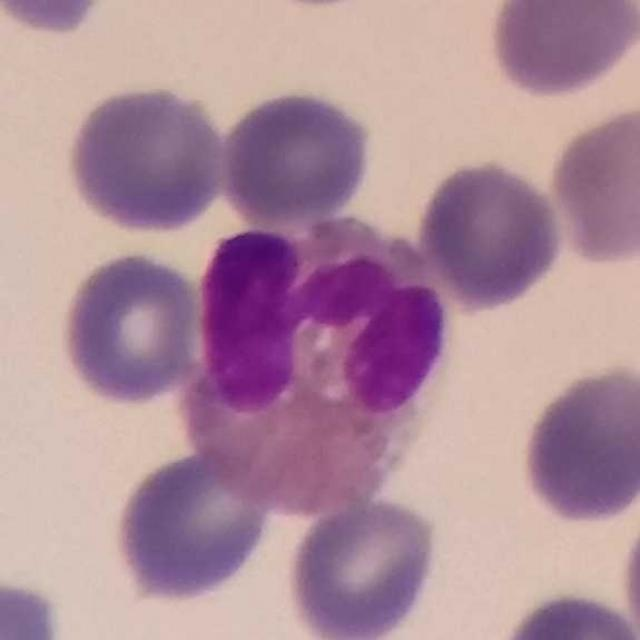Eosinophil: (183, 208, 455, 512)
RBC: (108, 443, 279, 605), (61, 81, 232, 237), (414, 153, 569, 314), (56, 247, 208, 409), (283, 495, 443, 640), (216, 85, 376, 226), (515, 360, 640, 528), (545, 99, 640, 269), (483, 0, 640, 101), (489, 585, 640, 638), (0, 0, 112, 39), (0, 574, 66, 639), (615, 517, 640, 638)
